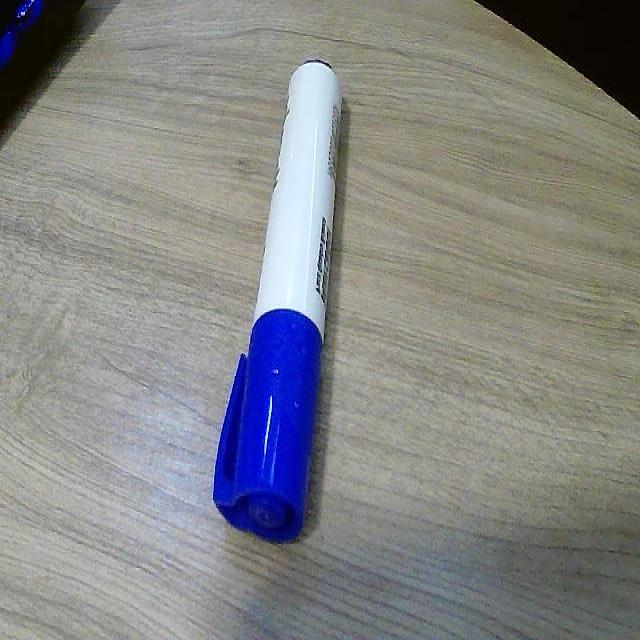caneta: (206, 31, 367, 551)
